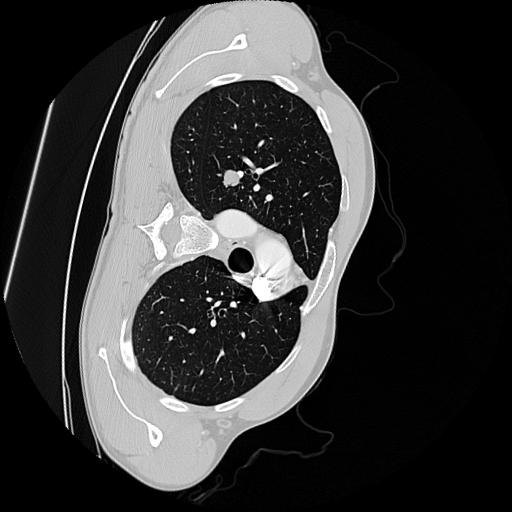nodule: (219, 168, 244, 193)
